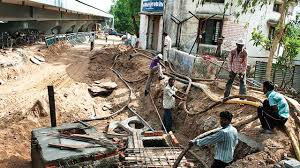arm: (189, 126, 224, 147), (241, 49, 249, 74), (226, 49, 234, 73)
face: (260, 80, 271, 91), (234, 41, 244, 49)
footwear: (238, 88, 248, 95)
glove: (188, 135, 198, 145)
human: (195, 108, 243, 166), (221, 37, 250, 97), (156, 71, 182, 133)
leg: (222, 71, 237, 97), (160, 107, 175, 132), (238, 71, 248, 95)
nohelmet: (217, 109, 233, 124), (260, 79, 272, 91), (234, 39, 245, 48)
novest: (211, 125, 240, 159), (228, 47, 247, 72), (160, 83, 177, 108)
